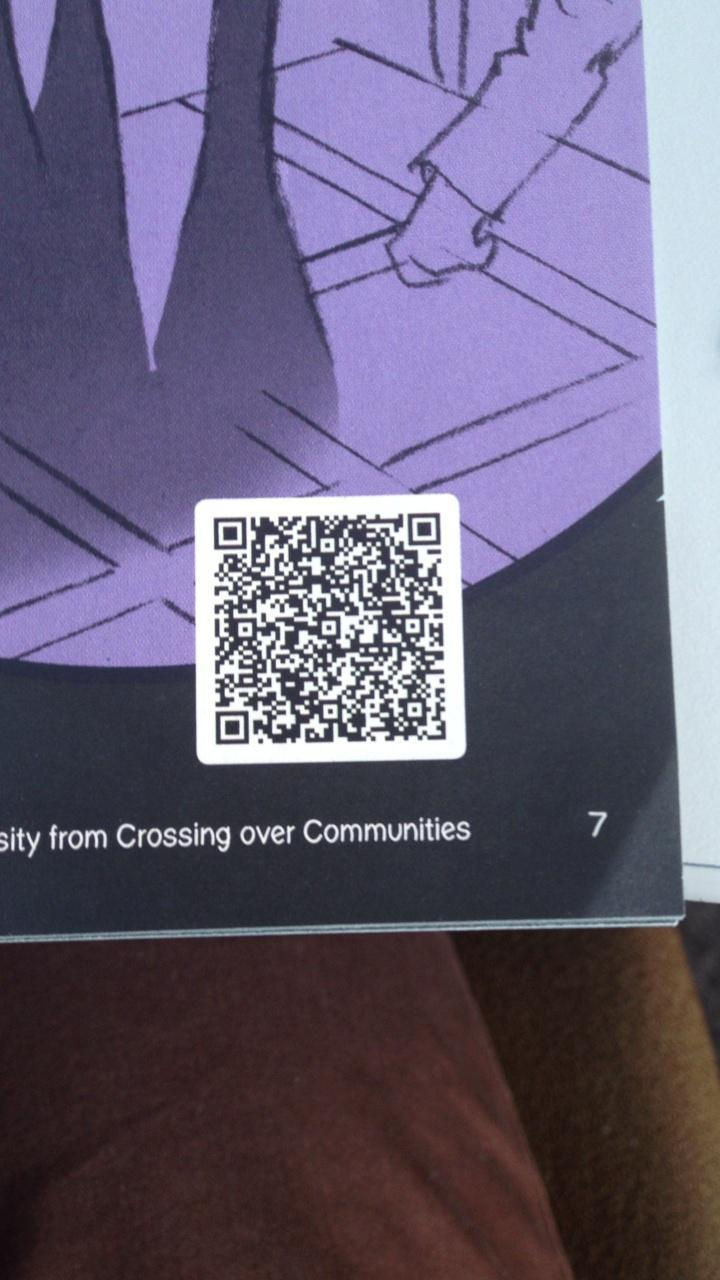Finder pattern: (210, 707, 254, 747), (404, 508, 445, 549), (209, 513, 251, 552)
